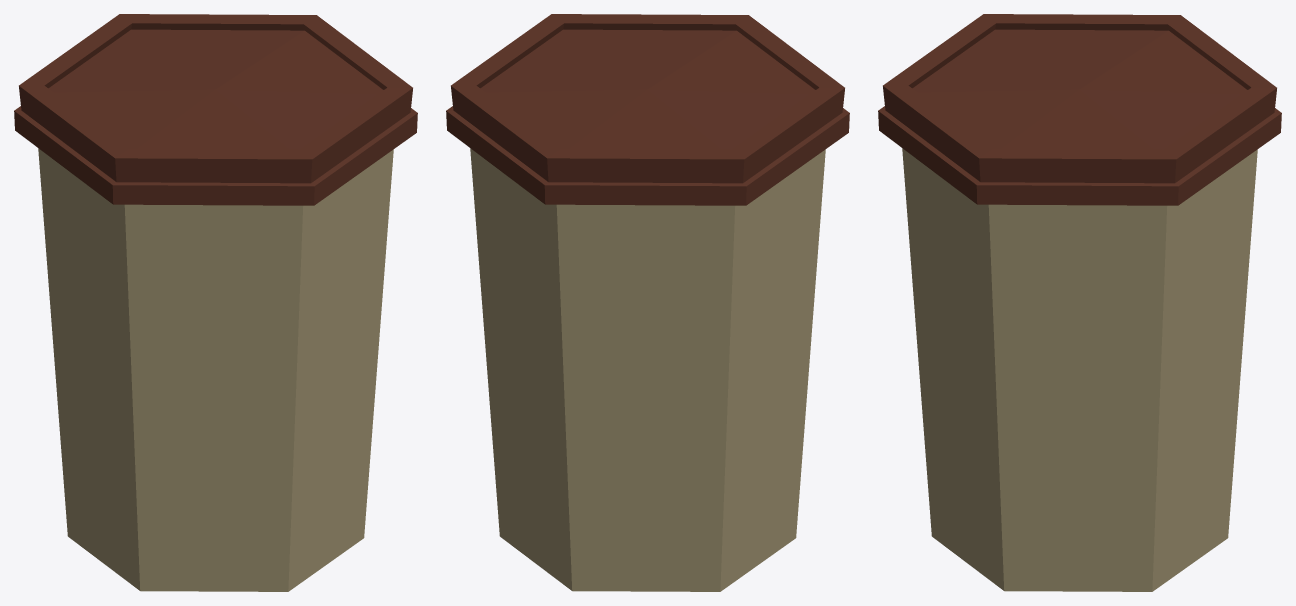
The model's file is Cup_of_coffe_out.fbx.
3 renders of one model, left to right at view 1: azimuth 30°, elevation 25°; view 2: azimuth 150°, elevation 25°; view 3: azimuth 270°, elevation 25°, orthographic.
Parts seen in each view (by area): view 1: Cup of Coffe.014; view 2: Cup of Coffe.014; view 3: Cup of Coffe.014.
Boxes of the visible parts, box(x1,y1,x2,y2) form: Cup of Coffe.014: box(14, 14, 417, 591); Cup of Coffe.014: box(446, 14, 849, 591); Cup of Coffe.014: box(878, 14, 1281, 591).
Size of the model in its own units: 0.0988 by 0.1395 by 0.1132.
